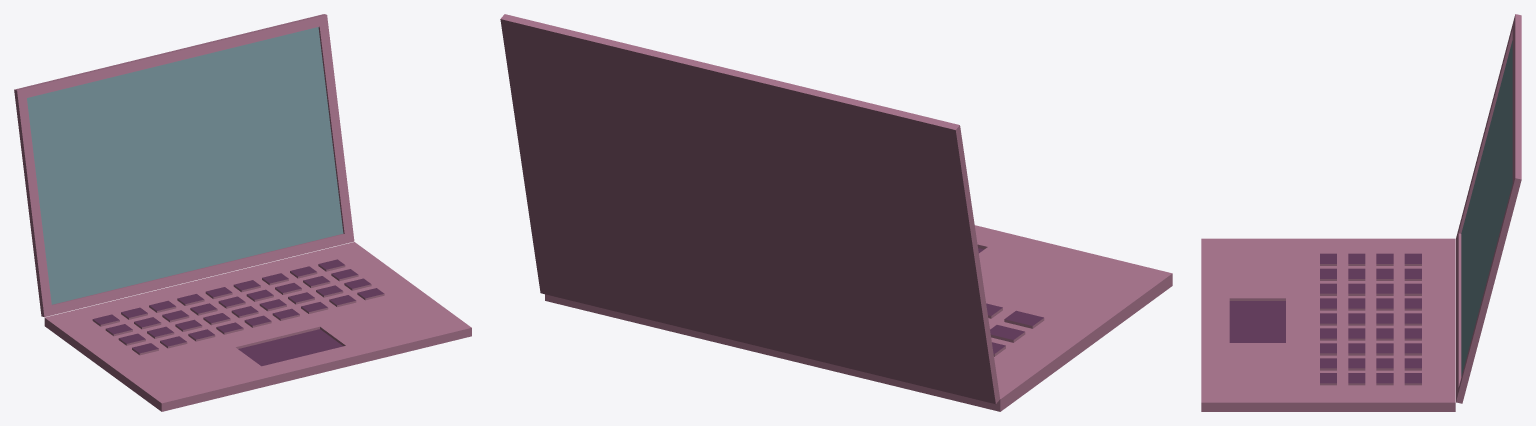
The model's file is läppäri_GJ22.fbx.
3 views of the same model, side by side, from view 1: azimuth 30°, elevation 25°; view 2: azimuth 150°, elevation 25°; view 3: azimuth 270°, elevation 25° (orthographic). The views are drawn at different scales.
Visible parts, largest first — view 1: Läppäri; view 2: Läppäri; view 3: Läppäri.
Boxes of the visible parts, x1,y1,x2,y2 form: Läppäri: [14, 14, 471, 411]; Läppäri: [500, 14, 1172, 411]; Läppäri: [1201, 14, 1521, 411].
Bounding box in the file's own units: 40 × 26.56 × 33.
